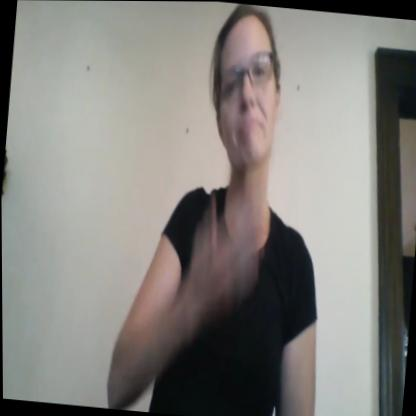ThankYou: (164, 159, 274, 371)
